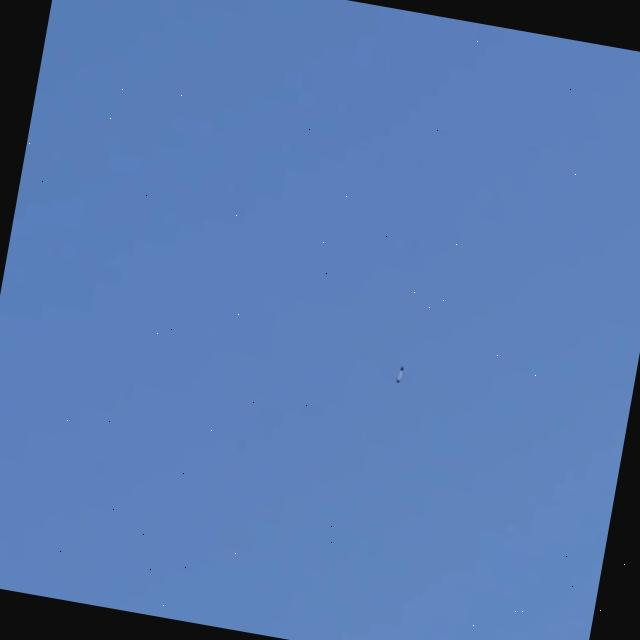rocket: (396, 367, 404, 385)
